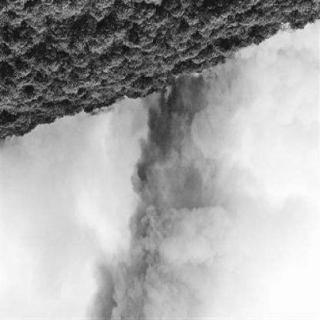Fire: (145, 77, 188, 131)
Smoke: (8, 129, 308, 312)
